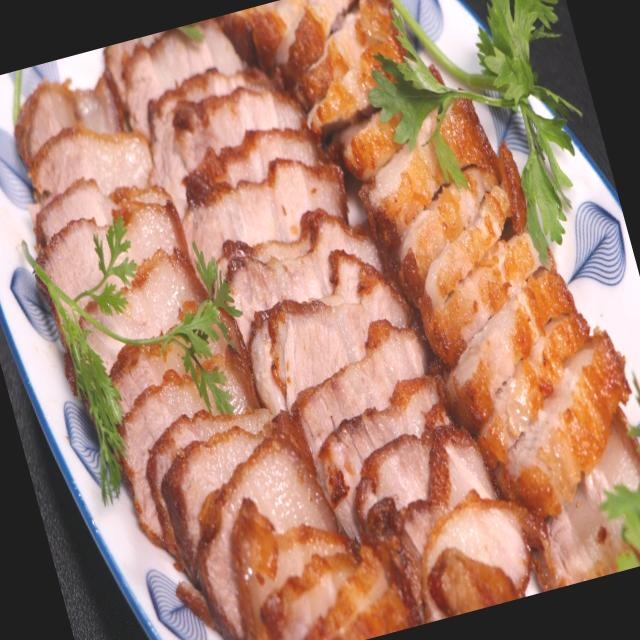thit chien: (122, 21, 538, 621), (223, 0, 640, 590), (15, 79, 405, 640)
